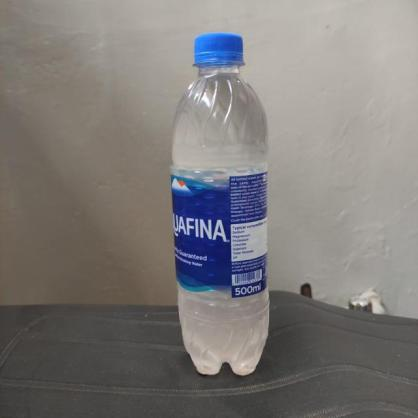bottle: (163, 31, 274, 376)
cap: (184, 31, 246, 71)
label: (172, 177, 272, 298)
